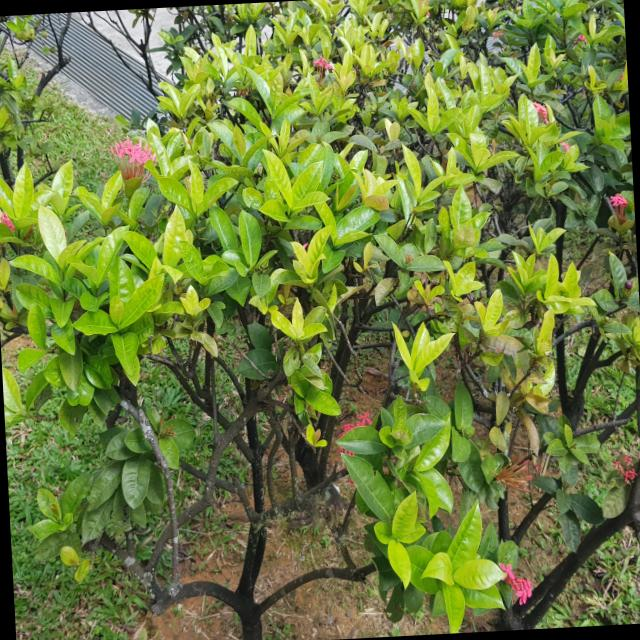Chinese-Ixora: (334, 411, 376, 488), (108, 132, 162, 188), (532, 99, 572, 162), (487, 452, 536, 500), (498, 558, 534, 607), (612, 454, 639, 484), (312, 54, 334, 88), (608, 191, 630, 224), (0, 209, 16, 233), (572, 30, 588, 48), (302, 240, 309, 248)
